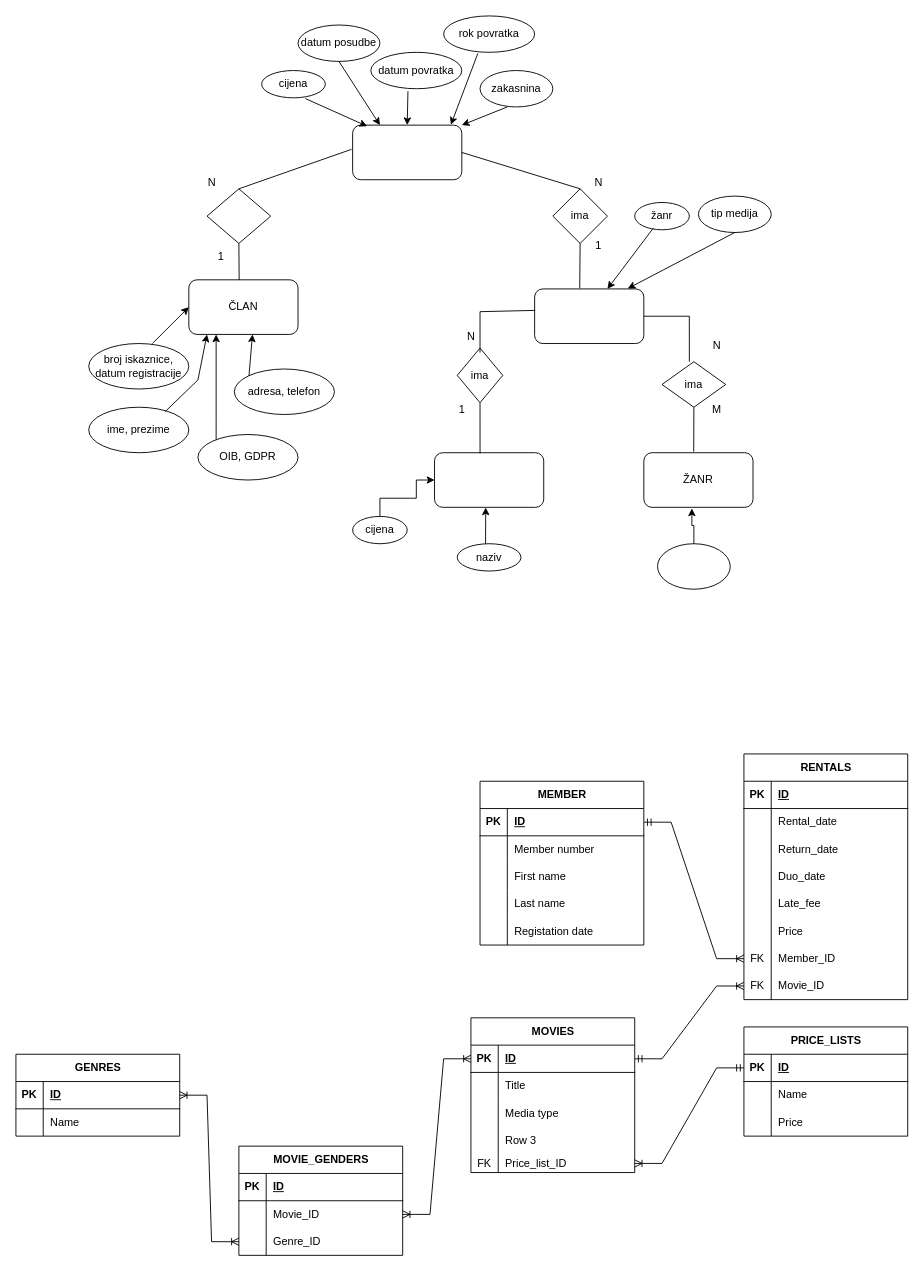
Some shapes in this 924 by 1271 pixel diagram are drawn without their labels. Each missing label, with the centre of its shape:
"CJENIK" belongs at (x=489, y=479).
"FILM" belongs at (x=589, y=316).
"naziv žanra" belongs at (x=693, y=566).
"POSUDBA" belongs at (x=407, y=152).
"posuđuje" belongs at (x=238, y=215).
